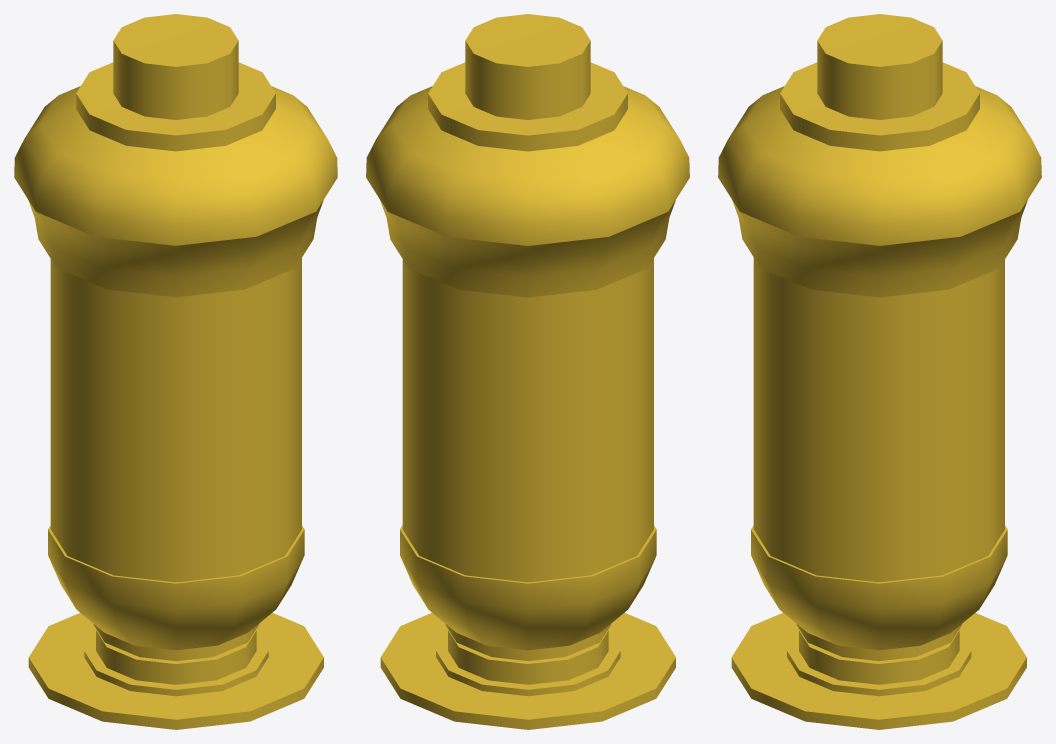
Rendered from Coper_Fluid_Containers_IDC.fbx.
3 views of the same model, side by side, from view 1: azimuth 30°, elevation 25°; view 2: azimuth 150°, elevation 25°; view 3: azimuth 270°, elevation 25° (orthographic).
Visible parts, largest first — view 1: Cylinder.003, Cylinder.013; view 2: Cylinder.003, Cylinder.013; view 3: Cylinder.003, Cylinder.013.
Boxes of the visible parts, left/top/right/bottom form: Cylinder.003: left=14, top=14, right=337, bottom=729; Cylinder.013: left=84, top=629, right=268, bottom=696; Cylinder.003: left=366, top=14, right=689, bottom=729; Cylinder.013: left=436, top=629, right=620, bottom=696; Cylinder.003: left=718, top=14, right=1041, bottom=729; Cylinder.013: left=787, top=629, right=971, bottom=696.
Size of the model in its own units: 96.65 by 207 by 96.65.
